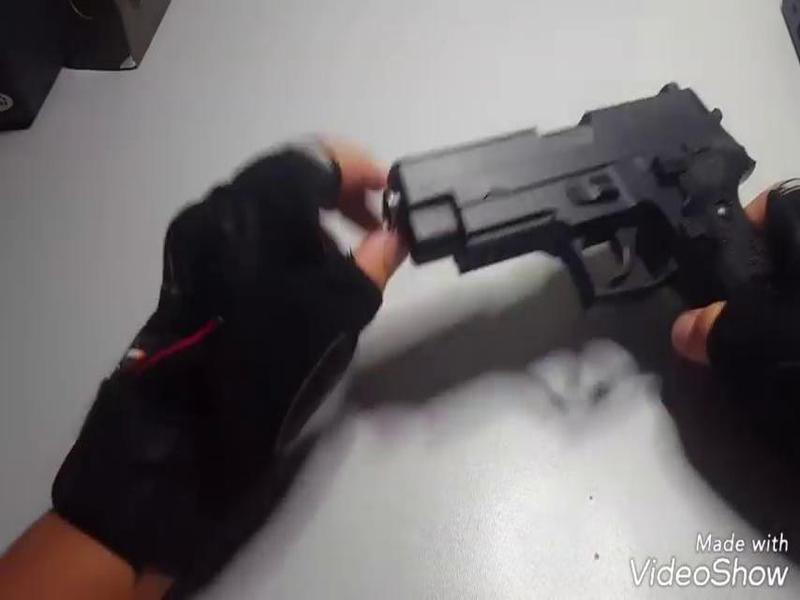Pistola: (374, 73, 792, 330)
